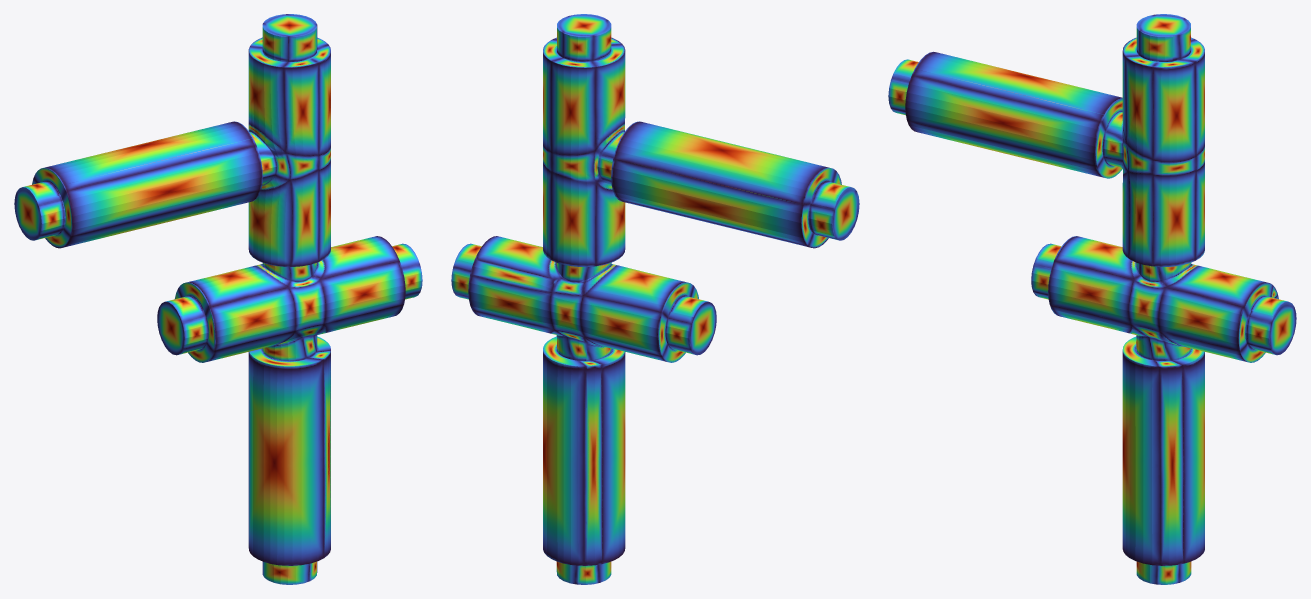
The model's file is gen3.glb.
The picture shows the model from 3 angles, left to right: view 1: azimuth 30°, elevation 25°; view 2: azimuth 150°, elevation 25°; view 3: azimuth 330°, elevation 25°; orthographic projection.
Visible parts, largest first — view 1: Node; view 2: Node; view 3: Node.
Boxes of the visible parts, x1=… form: Node: x1=14, y1=14, x2=422, y2=584; Node: x1=451, y1=14, x2=859, y2=584; Node: x1=888, y1=14, x2=1296, y2=584.
Bounding box in the file's own units: 320 × 440 × 60.
Materials: 1 (1 with a texture image).
